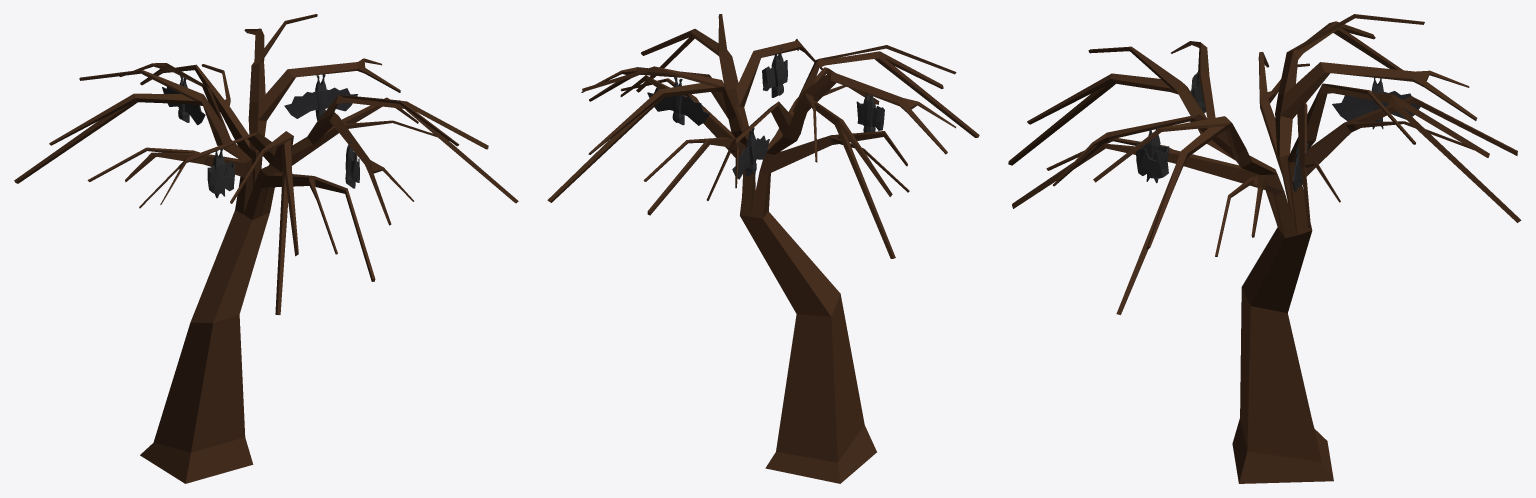
File: treeobswithbats.fbx
The picture shows the model from 3 angles, left to right: view 1: azimuth 30°, elevation 25°; view 2: azimuth 150°, elevation 25°; view 3: azimuth 270°, elevation 25°; orthographic projection. The views are drawn at different scales.
Visible parts, largest first — view 1: Cube.002; view 2: Cube.002; view 3: Cube.002.
Part boxes in pixels (<box>): Cube.002: <box>14,14,518,483</box>; Cube.002: <box>547,14,979,483</box>; Cube.002: <box>1008,14,1521,483</box>.
Bounding box in the file's own units: 1389 × 1338 × 1403.
